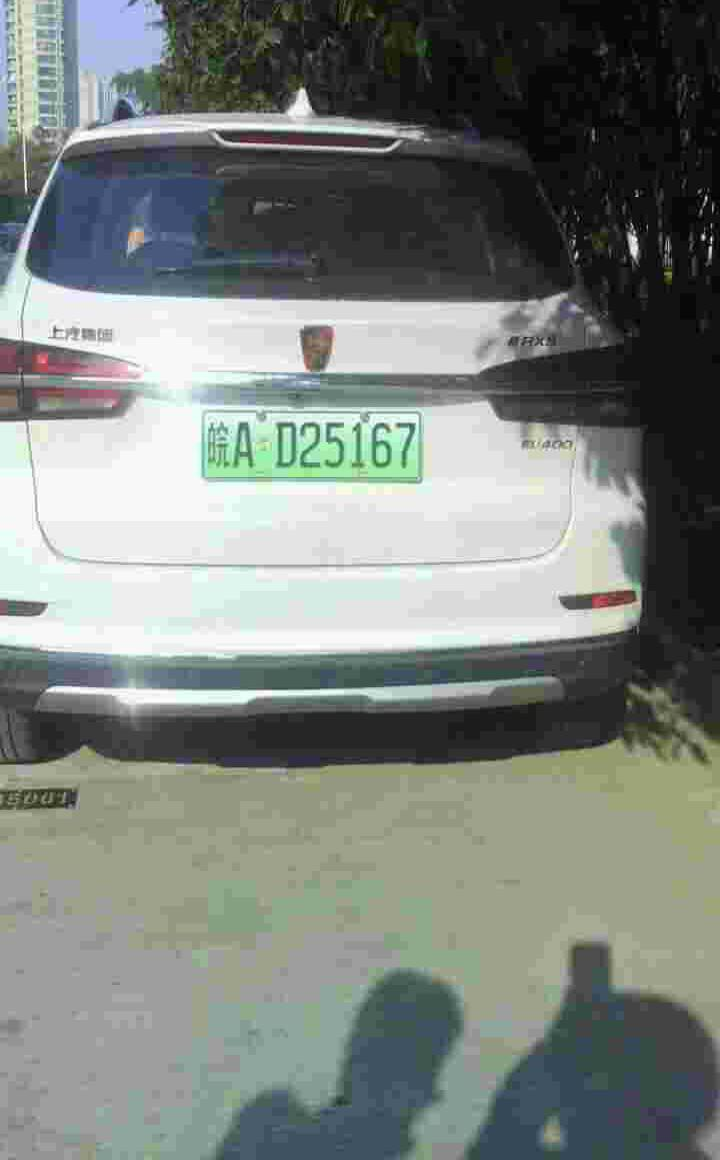car_id: (201, 410, 420, 476)
